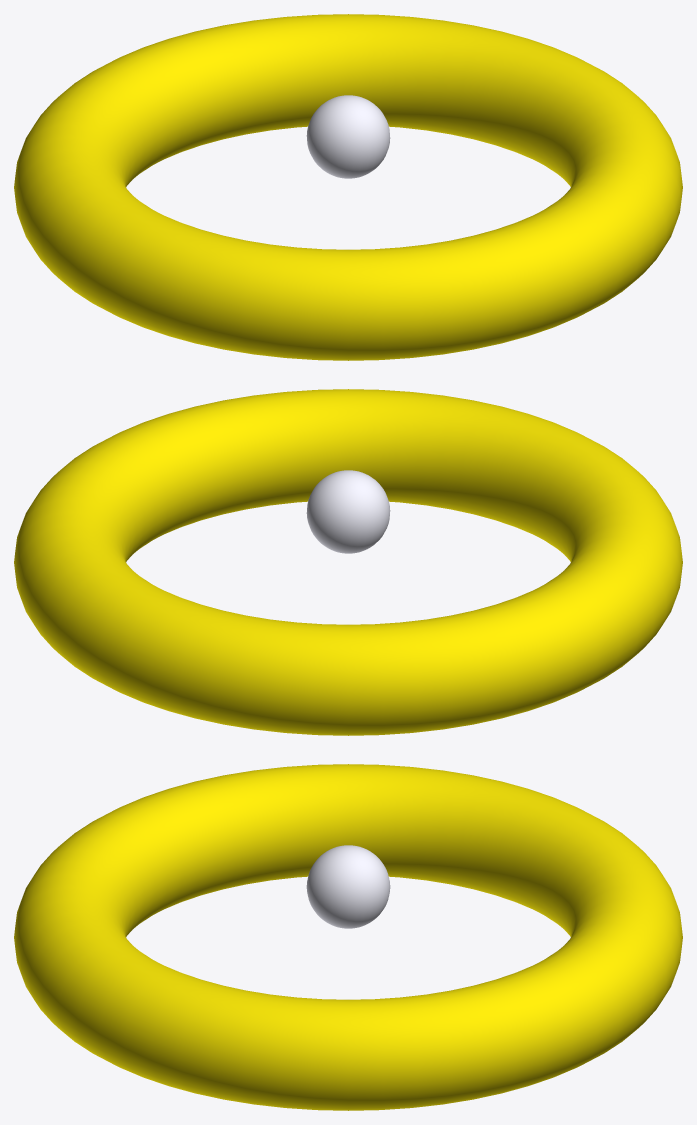
3 renders of one model, top to bottom at view 1: azimuth 30°, elevation 25°; view 2: azimuth 150°, elevation 25°; view 3: azimuth 270°, elevation 25°, orthographic.
Visible parts, largest first — view 1: Gold_Ring, Diamond; view 2: Gold_Ring, Diamond; view 3: Gold_Ring, Diamond.
Boxes of the visible parts, bbox=[...] form: Gold_Ring: bbox=[14, 14, 682, 360]; Diamond: bbox=[306, 95, 390, 178]; Gold_Ring: bbox=[14, 389, 682, 735]; Diamond: bbox=[306, 470, 390, 553]; Gold_Ring: bbox=[14, 764, 682, 1110]; Diamond: bbox=[306, 845, 390, 928].
Bounding box in the file's own units: 24 × 5.49 × 24.
